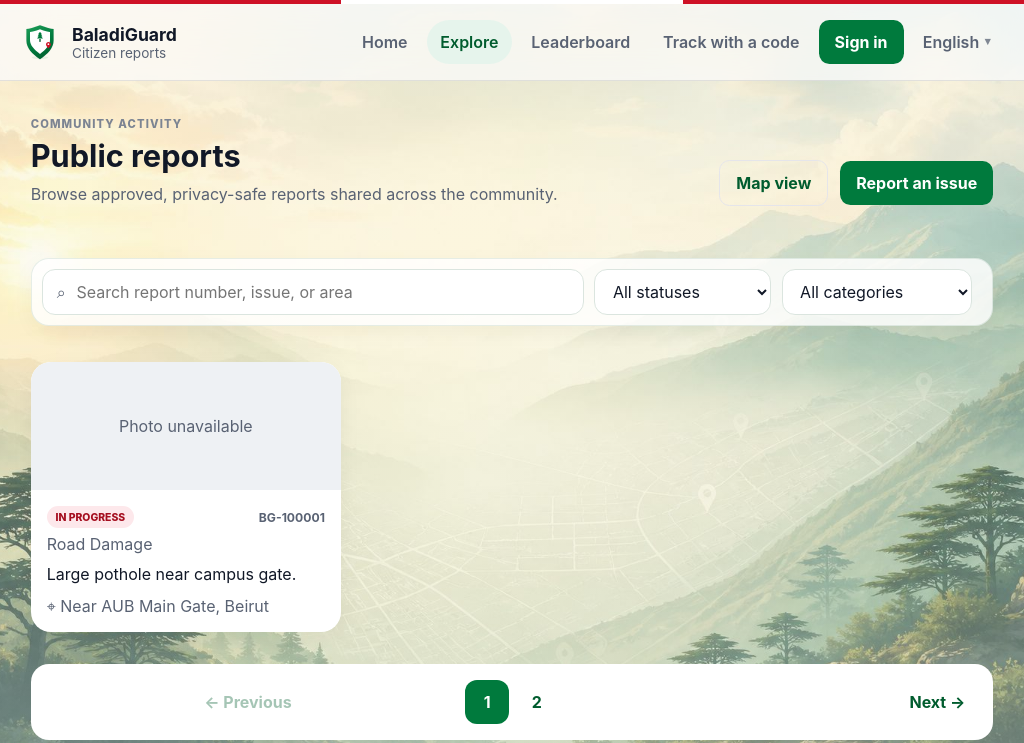
it: citizen web public browsing › opens public detail from the list
This screenshot has width=1024, height=743.
Click the link "BG-100001".
click(90, 517)  # box [31,490,341,632]
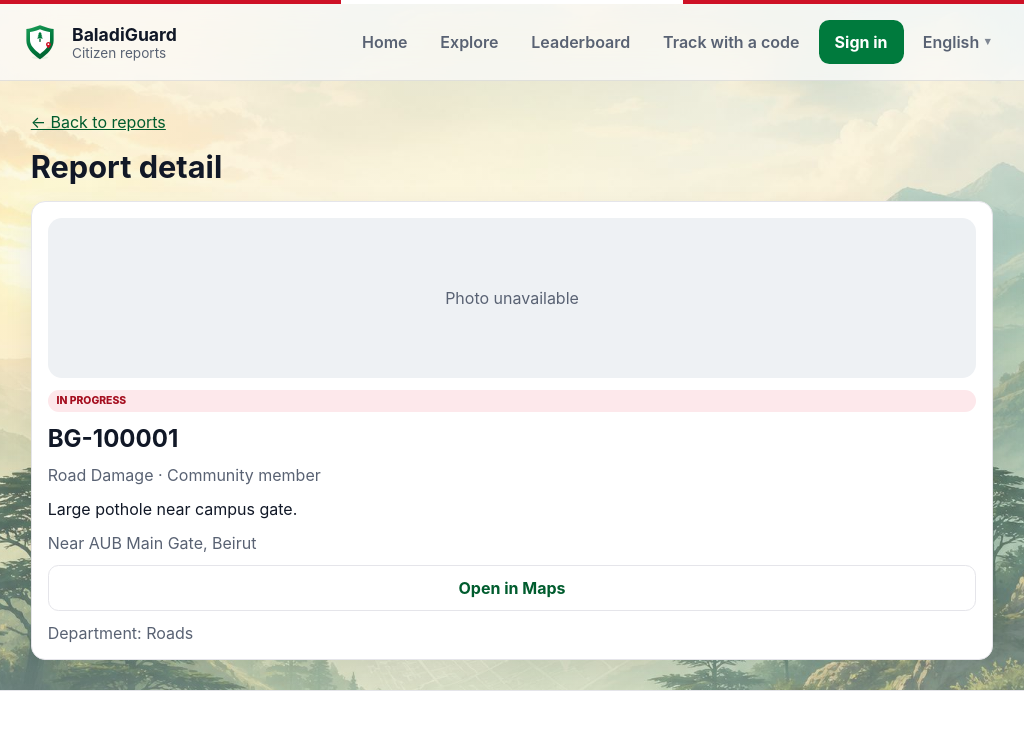
Expected: the element with test id "public-detail" is shown, [31,201,993,660]
